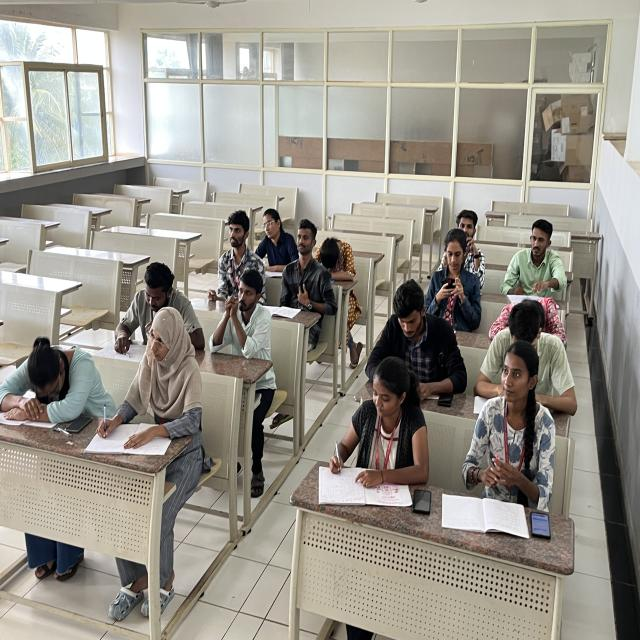Sleeping: (3, 334, 107, 423), (312, 230, 361, 283)
Using Phone: (421, 237, 484, 319), (274, 230, 325, 305)
Writing: (317, 363, 425, 502), (104, 312, 204, 452)
